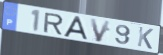1: (29, 9, 41, 33)
9: (114, 24, 132, 45)
A: (62, 15, 89, 41)
K: (136, 26, 155, 51)
R: (43, 12, 65, 36)
V: (88, 17, 112, 43)
